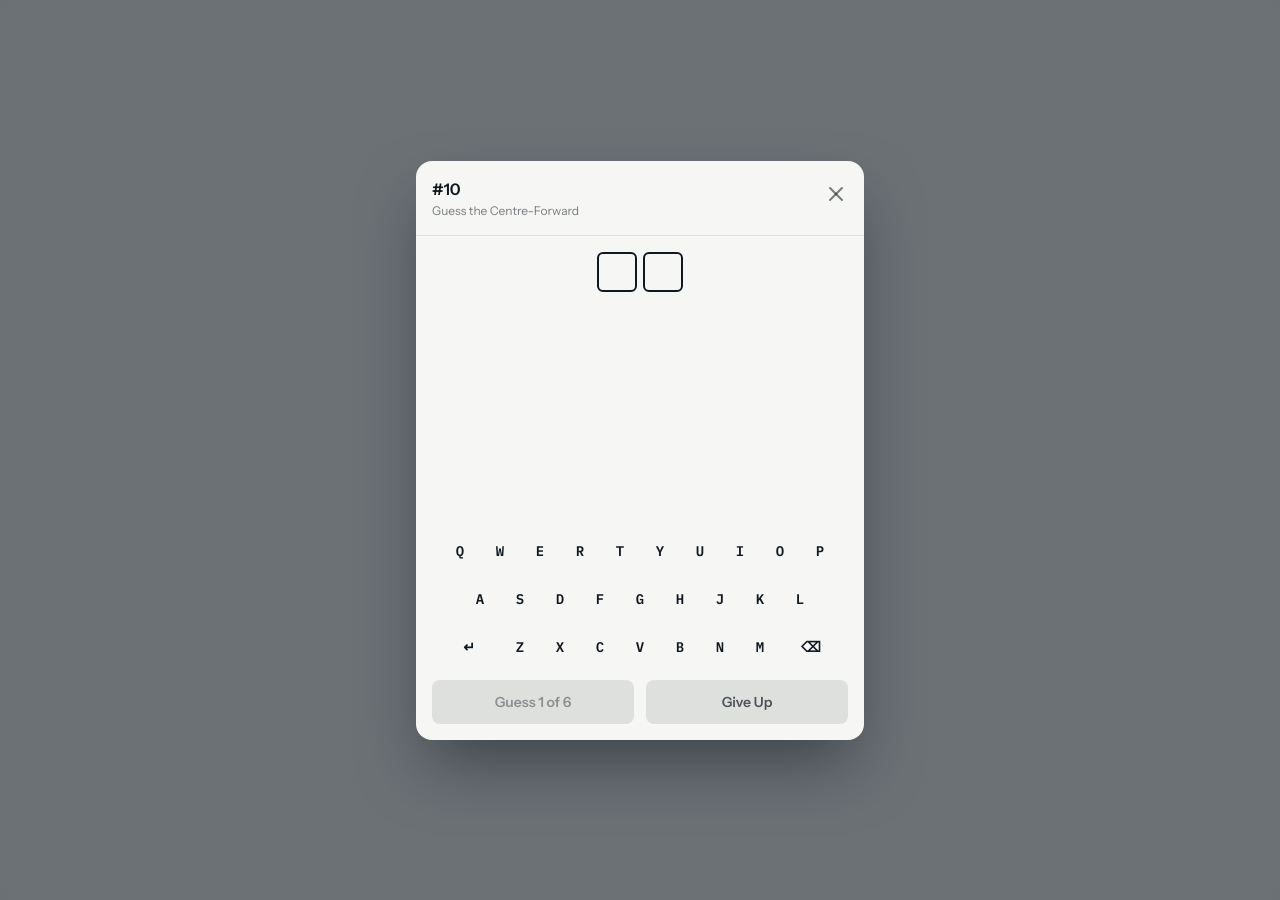
WordleModal › on-screen keyboard and action button › enables the action button only for a full guess and submits it
Expected: the button "Guess 1 of 6" is disabled, [432,680,634,724]
Click the button "A": (480, 598) [463,578,497,620]
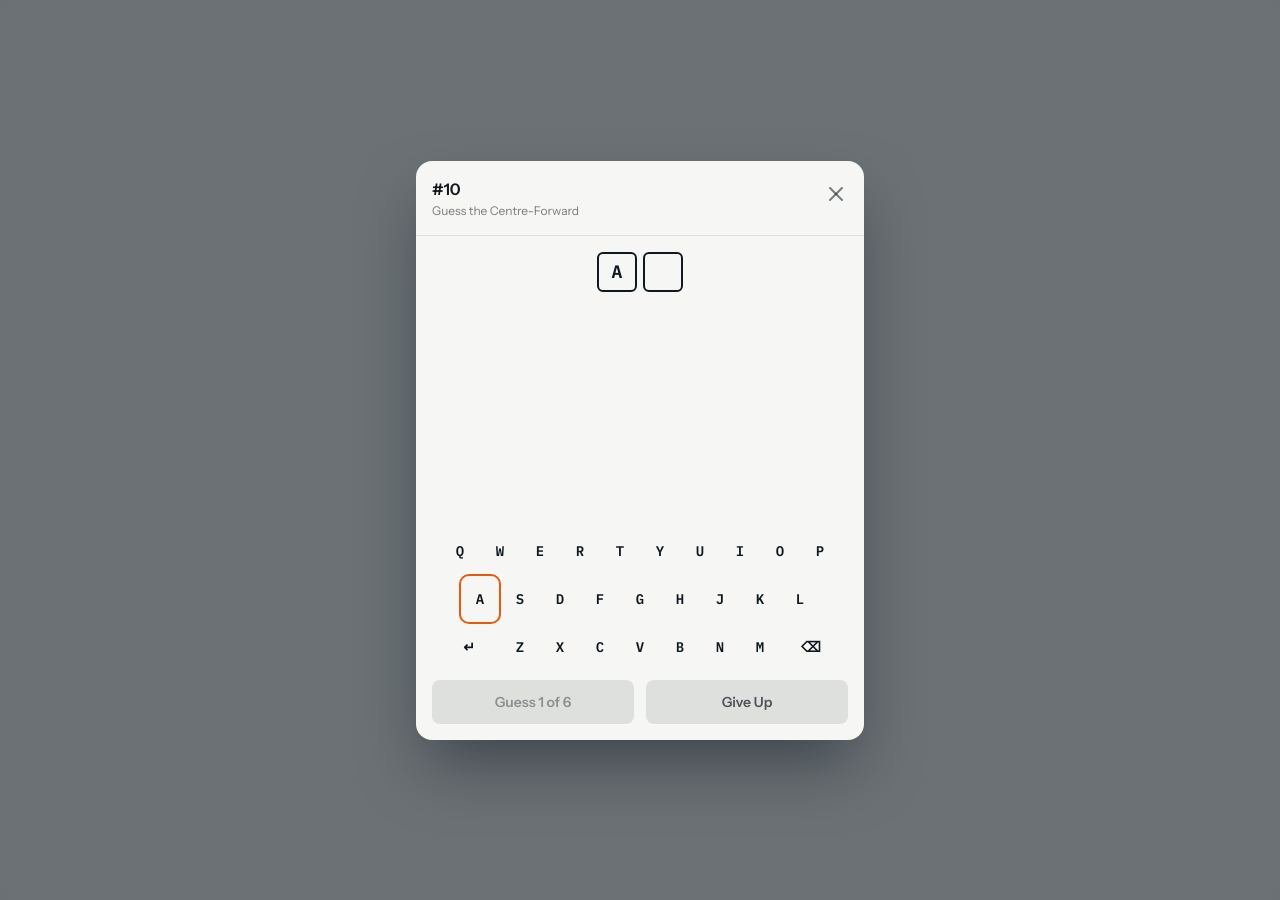
Expected: the button "Guess 1 of 6" is disabled, [432,680,634,724]
Click the button "B": (680, 646) [663,626,697,668]
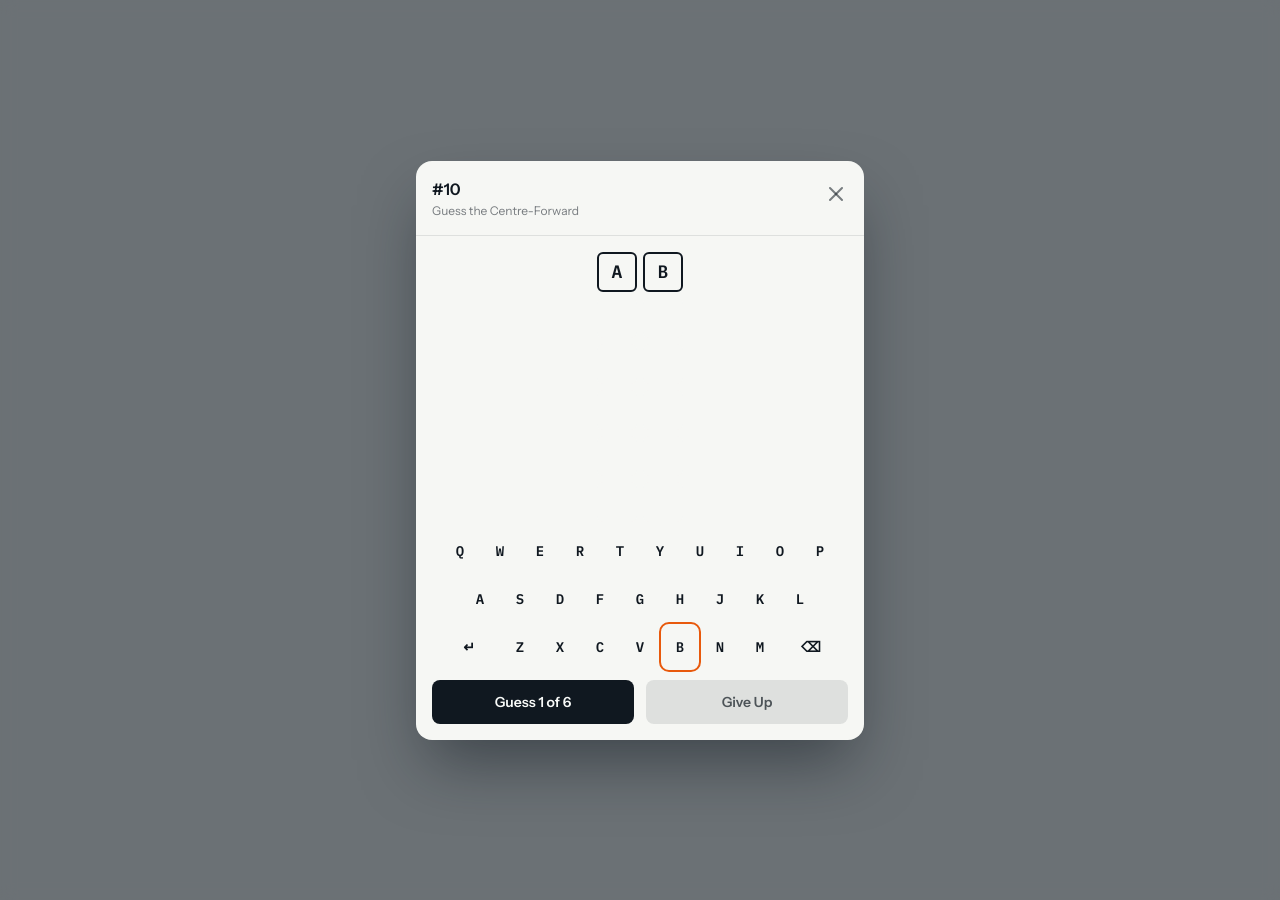
Result: the button "Guess 1 of 6" is enabled
Click the button "Guess 1 of 6": (533, 702) [432,680,634,724]
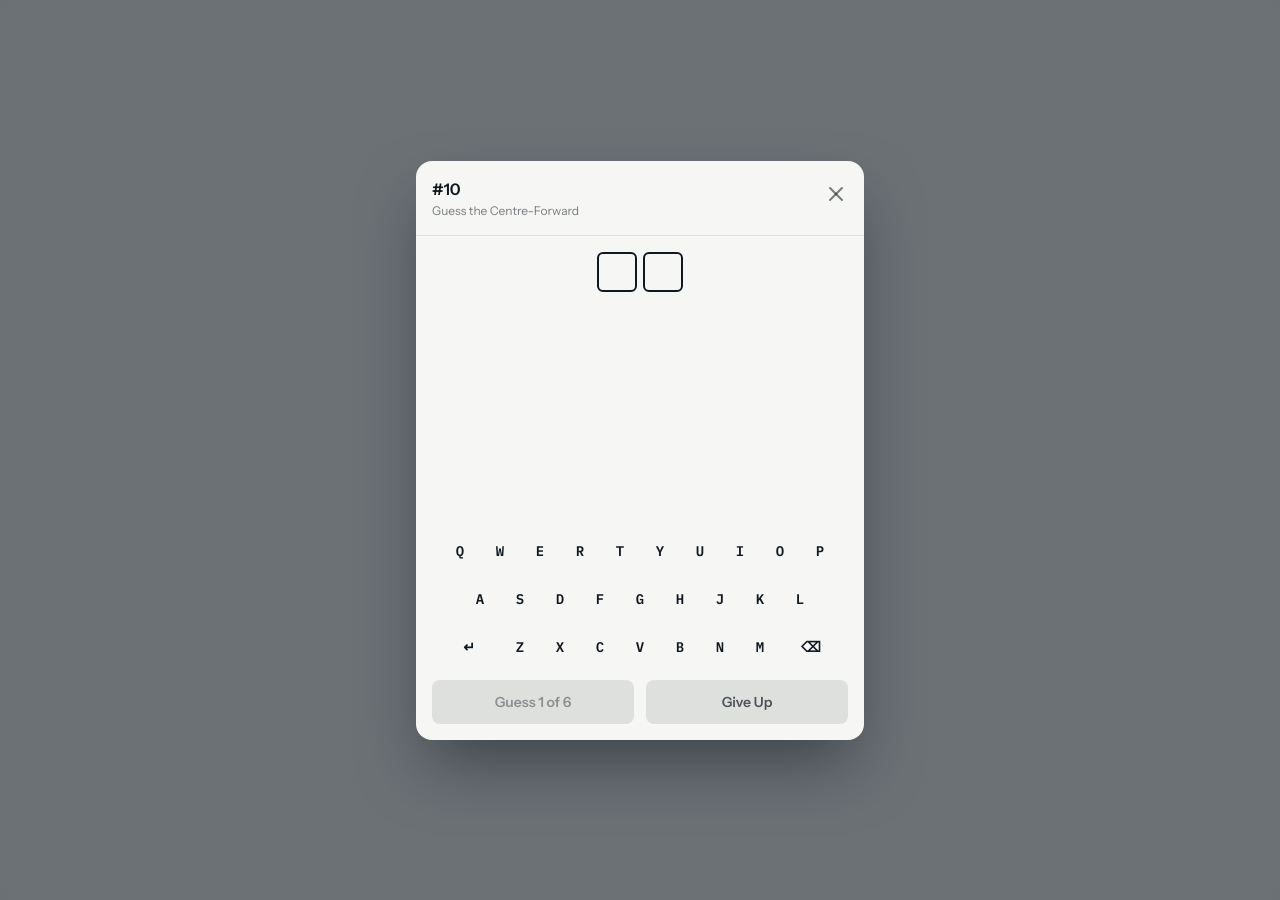
Expected: the number of cells named "empty" is 2, [597,252,637,292]; [643,252,683,292]
Result: the button "Guess 1 of 6" is disabled at [432,680,634,724]
